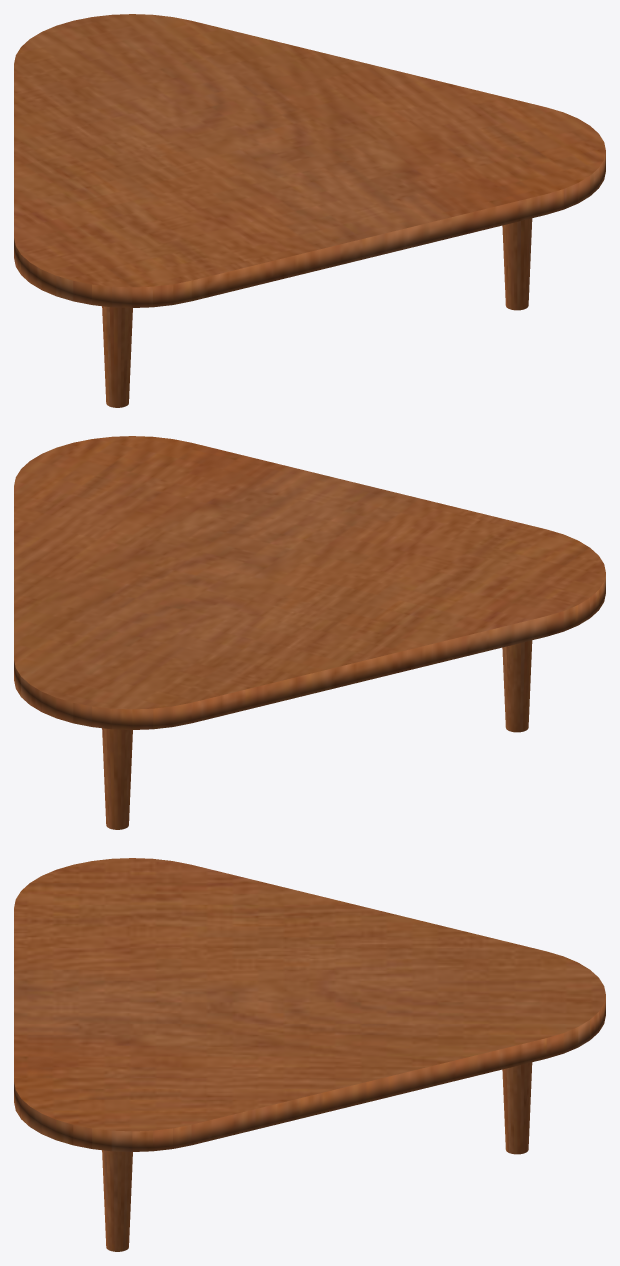
Rendered from coffee-table-wood.glb.
3 views of the same model, one above another, from view 1: azimuth 30°, elevation 25°; view 2: azimuth 150°, elevation 25°; view 3: azimuth 270°, elevation 25° (orthographic).
Visible parts, largest first — view 1: _(Loose Entity); view 2: _(Loose Entity); view 3: _(Loose Entity).
Part boxes in pixels (box(x1,y1,x2,y2)): _(Loose Entity): box(14, 14, 605, 407); _(Loose Entity): box(14, 436, 605, 829); _(Loose Entity): box(14, 858, 605, 1251).
Size of the model in its own units: 1.44 by 0.381 by 1.32.
Materials: 2 (1 with a texture image).
